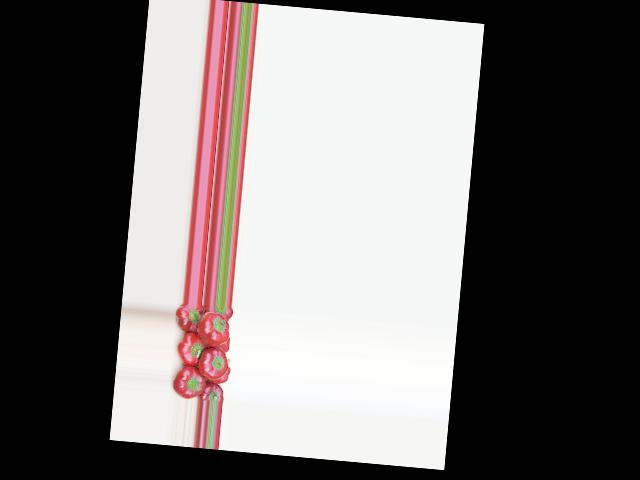bell_pepper: (217, 338, 232, 353)
